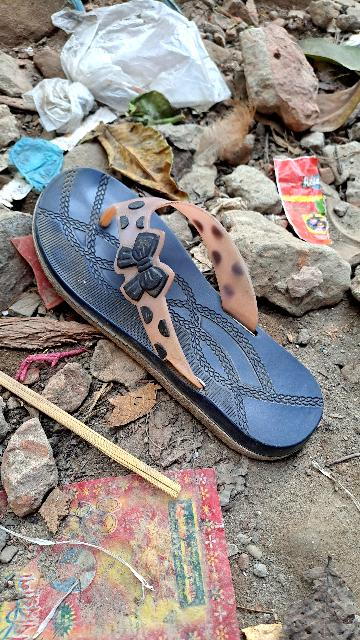sandal: (21, 143, 340, 476)
